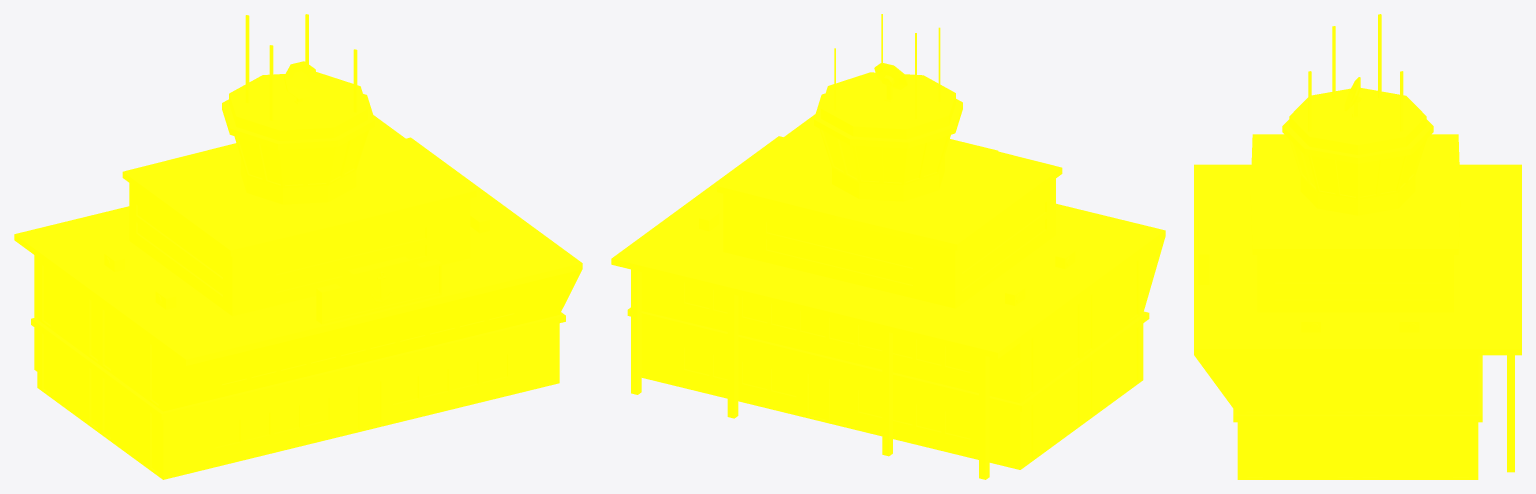
The model's file is building-port-sea.glb.
3 renders of one model, left to right at view 1: azimuth 30°, elevation 25°; view 2: azimuth 150°, elevation 25°; view 3: azimuth 270°, elevation 25°, orthographic. The views are drawn at different scales.
Visible parts, largest first — view 1: building-port-sea; view 2: building-port-sea; view 3: building-port-sea.
Boxes of the visible parts, <box> form: building-port-sea: <box>14,14,582,479</box>; building-port-sea: <box>611,14,1165,479</box>; building-port-sea: <box>1194,14,1521,479</box>.
Size of the model in its own units: 27.2 by 23.87 by 20.
Materials: 1 (1 with a texture image).
